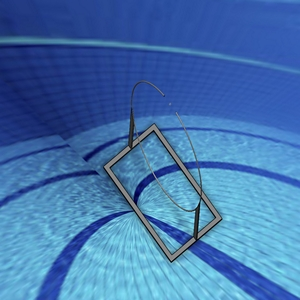circle: (103, 78, 222, 262)
